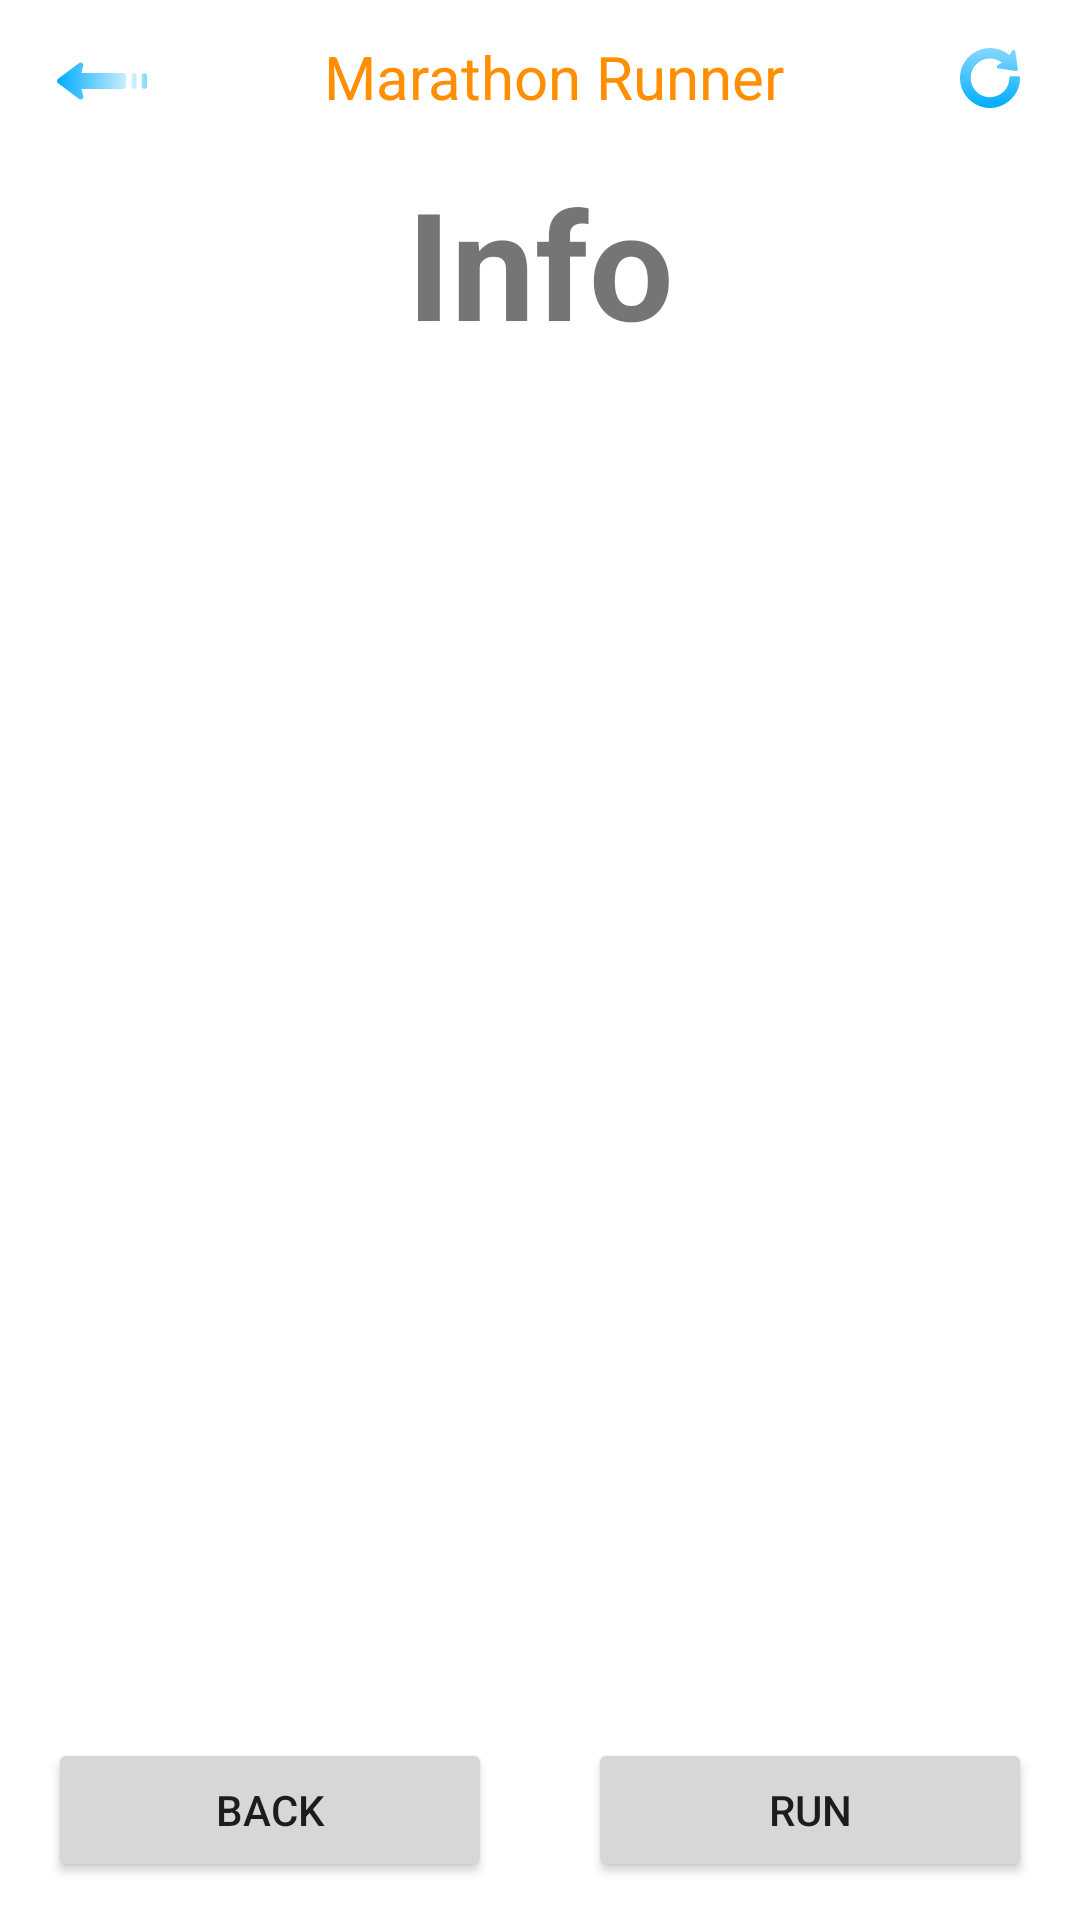

Point at icon controls on the screen. Image size 1080x1920, points as (x,y).
arrow: (102,81)
refresh: (990,78)
